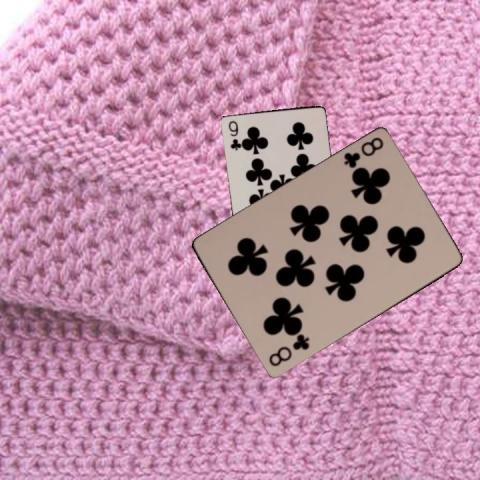8c: (266, 332, 312, 369), (341, 134, 385, 170)
9c: (225, 118, 240, 152)
